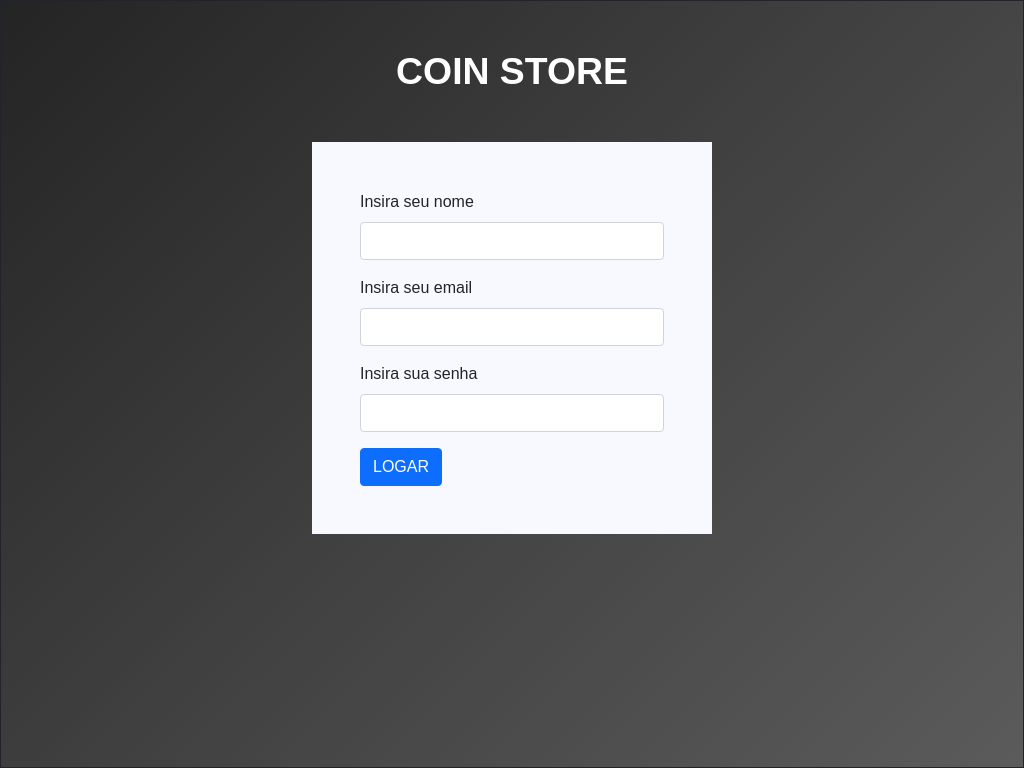
Componente de "Registro" › Se não preencher os campos recebe um erro
Click the button with test id "button-submit".
click(401, 467)  # box [360,448,442,486]
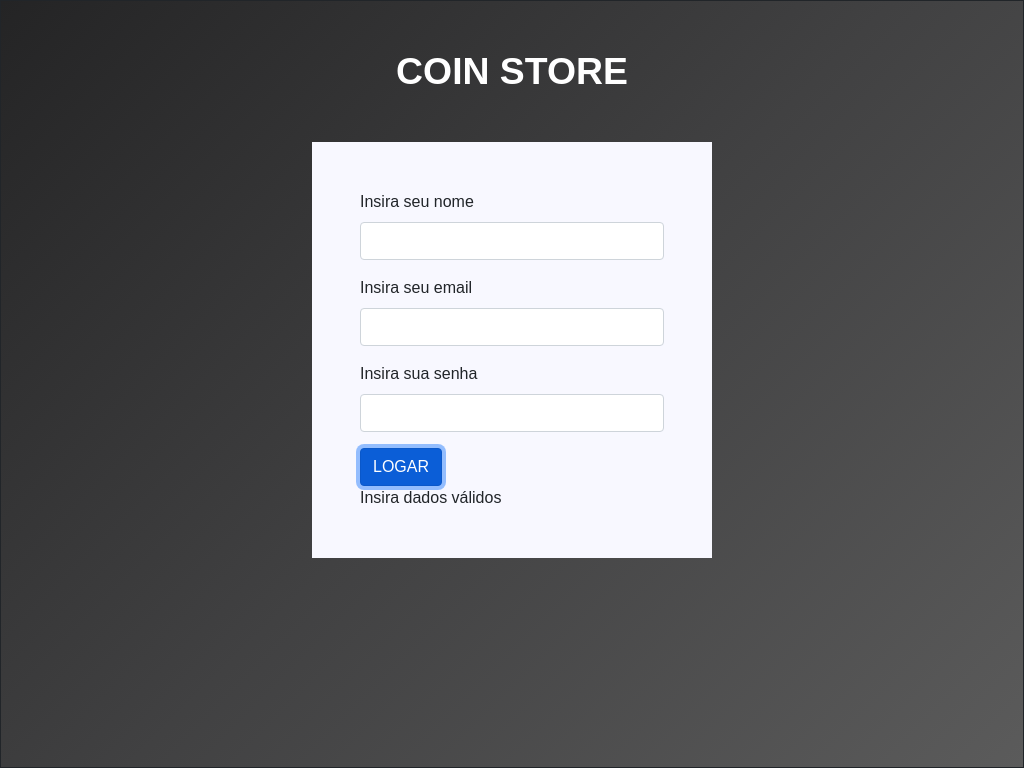
Now the text "Insira dados válidos" is shown, box [360,489,501,506]
